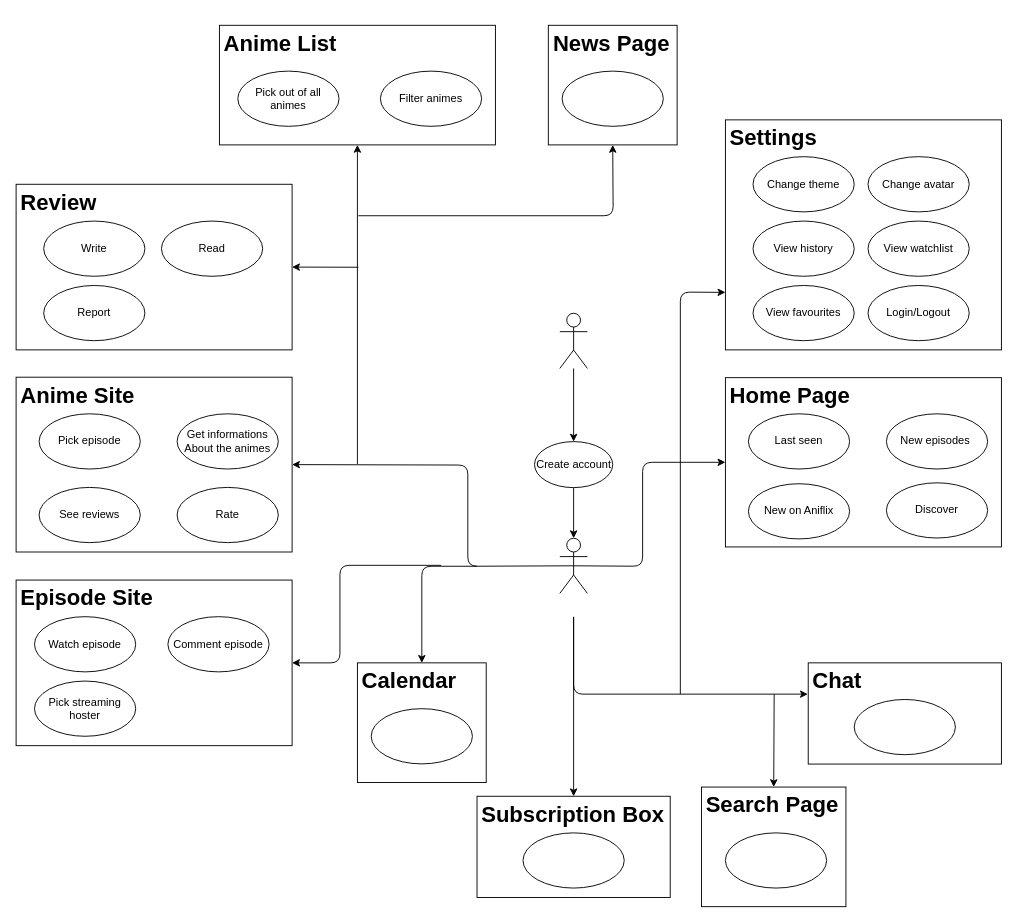
This 1018x923 diagram has some shape labels left out. Each missing label, with the centre of its shape:
"Chat in a global chat on the website" belongs at (904,727).
"Search anime" belongs at (775,860).
"See anime releases" belongs at (421,736).
"See subscribed animes" belongs at (573,860).
"User" belongs at (573,565).
"View news" belongs at (612,98).
"Visitor" belongs at (573,340).
